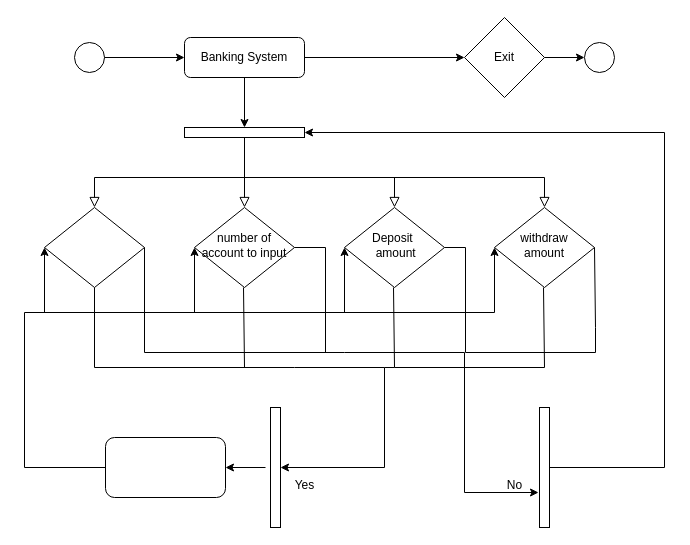
The diagram is 690 pixels wide and 545 high, and some of its shapes have lost their labels. The centre of each missing label's shape, as x and y in pixels:
"DataBase" belongs at point 165,467.
"search by account number" belongs at point 94,247.
